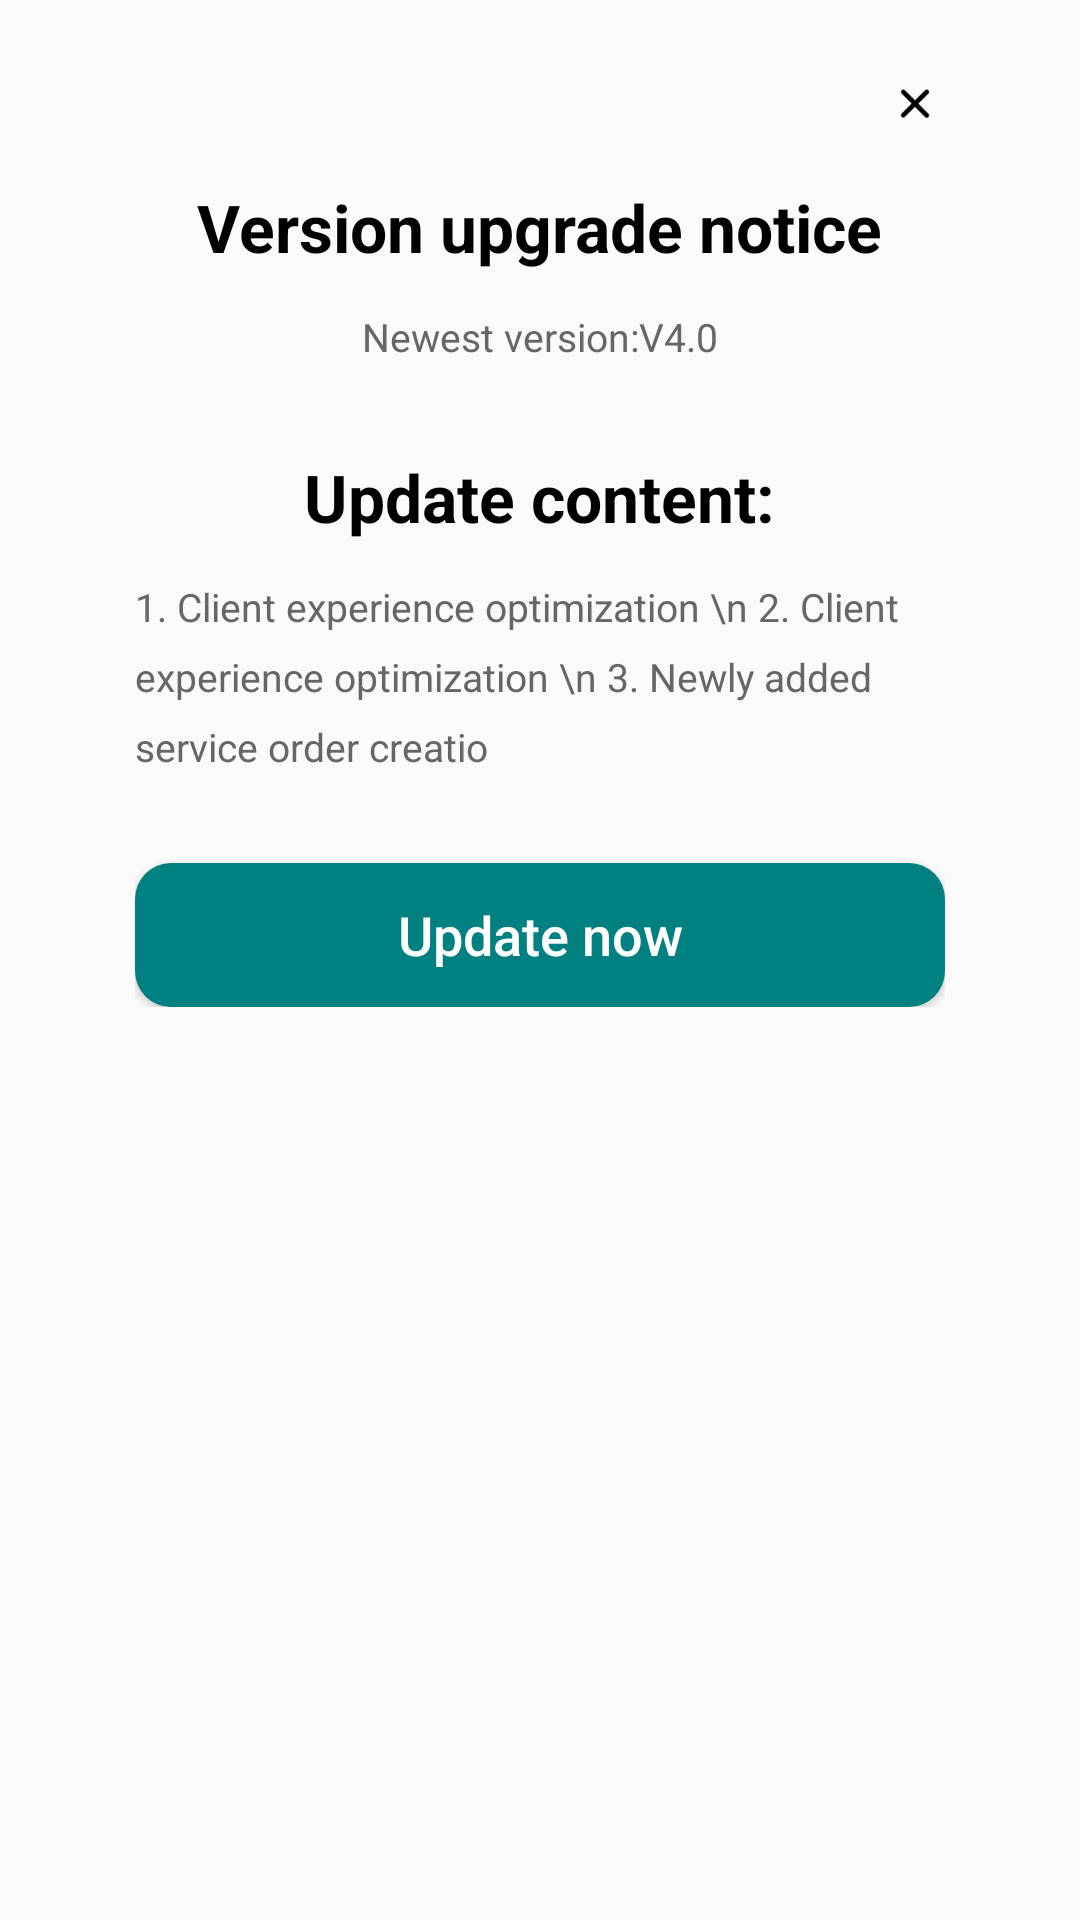

Where to tap for icons on this 1080w x 1920h app screen, as point (x, y):
close: point (915, 103)
